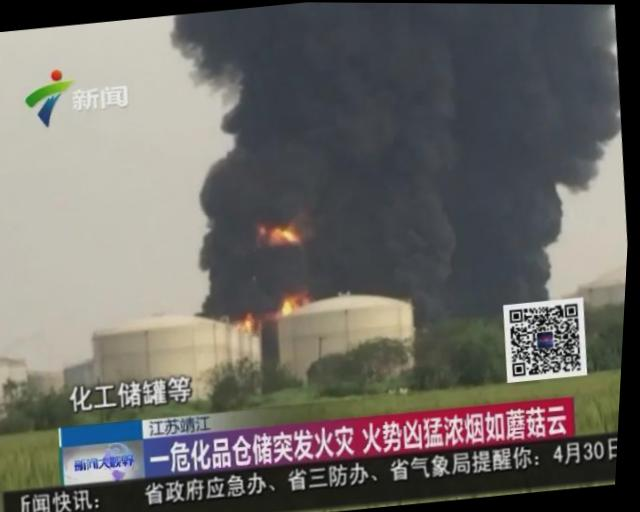fire: (266, 224, 302, 246), (280, 292, 308, 315), (238, 312, 257, 330)
